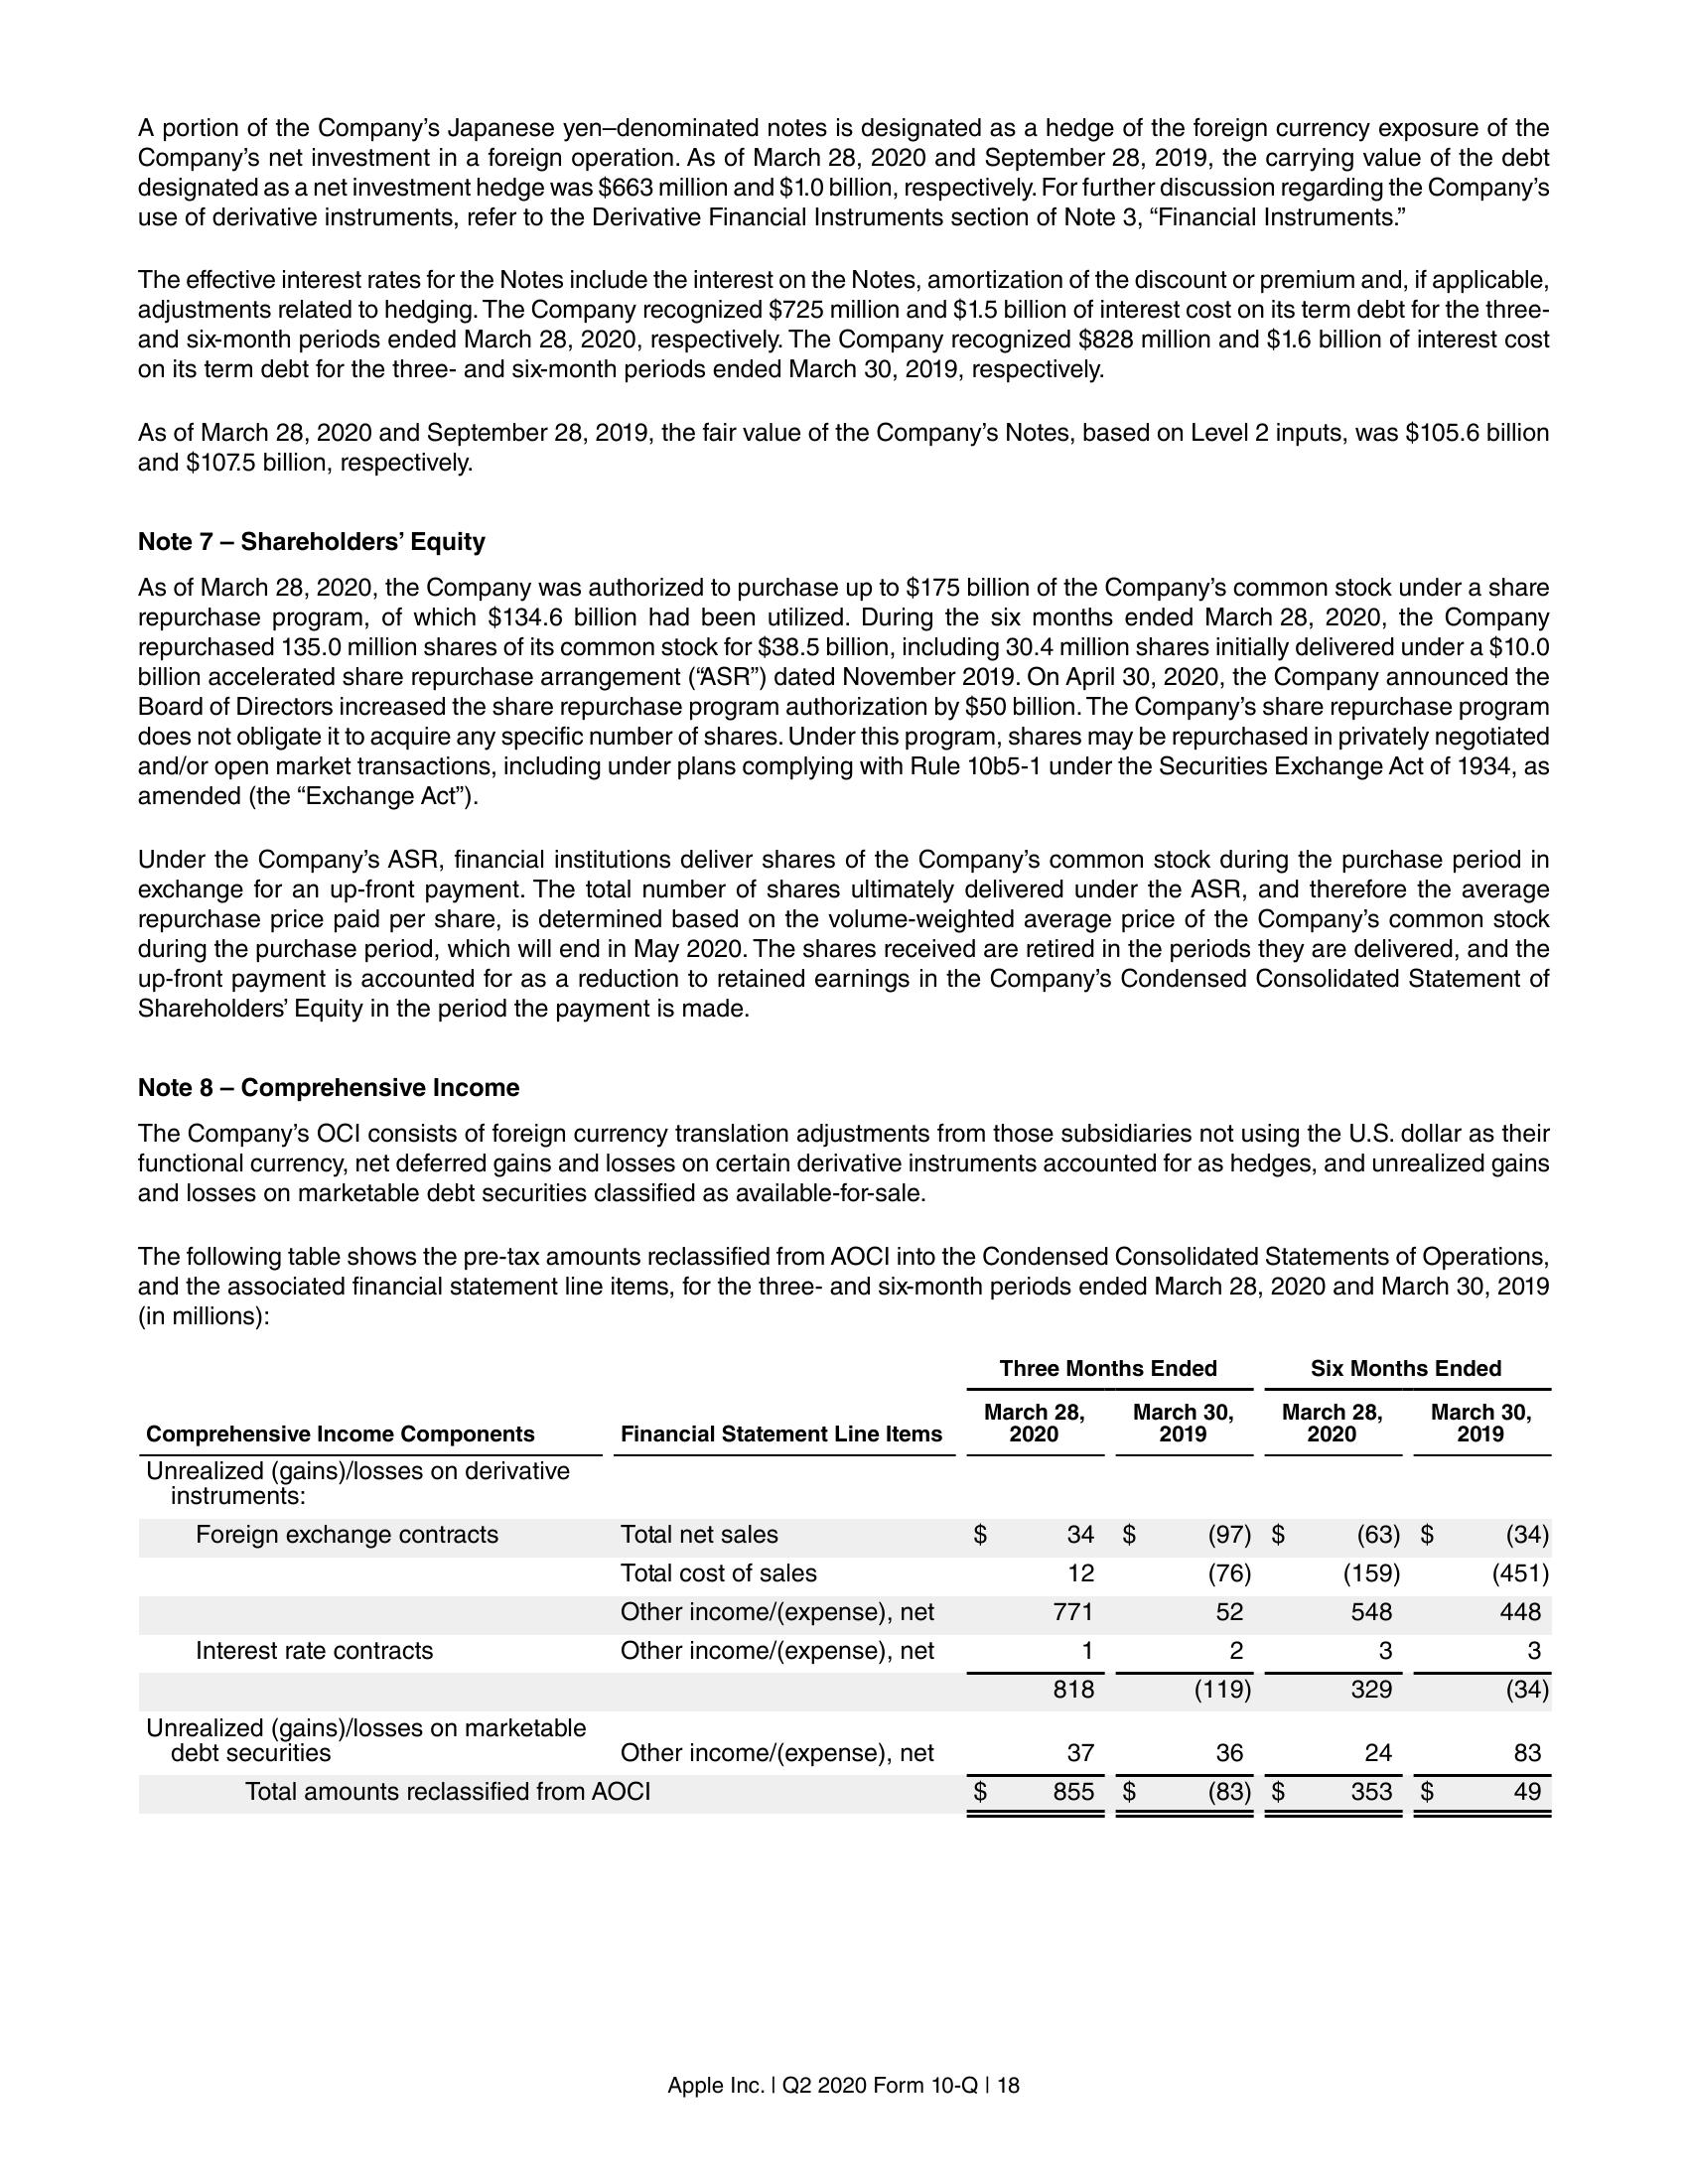table: (137, 1354, 1557, 1817)
